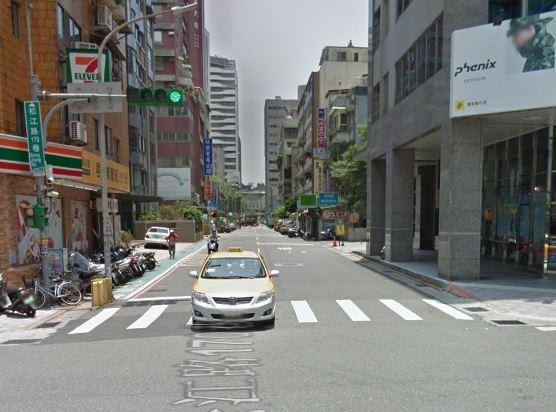green_traffic_light: (128, 86, 184, 105)
